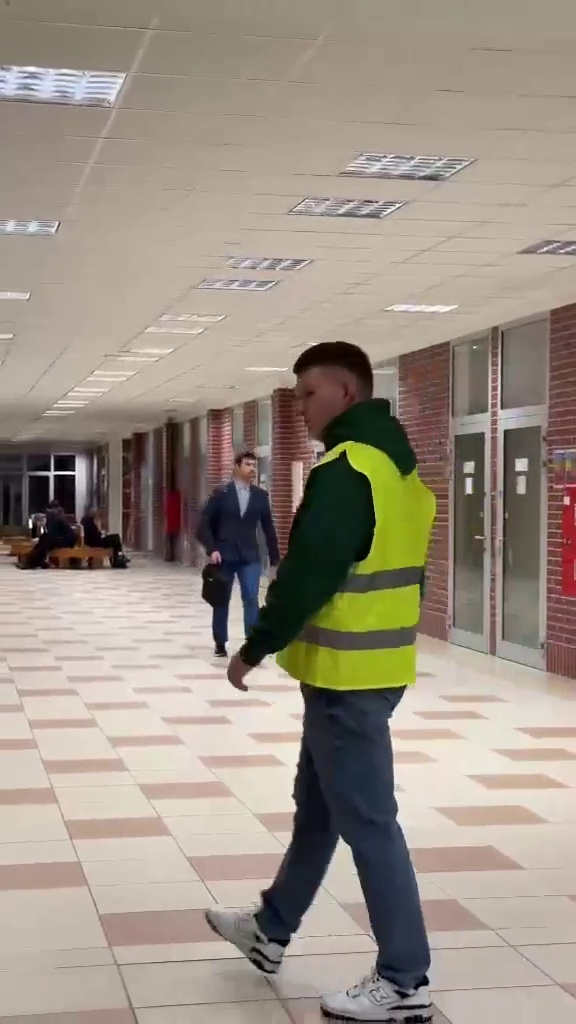no vest: (180, 446, 277, 640)
vest: (261, 340, 448, 1024)
